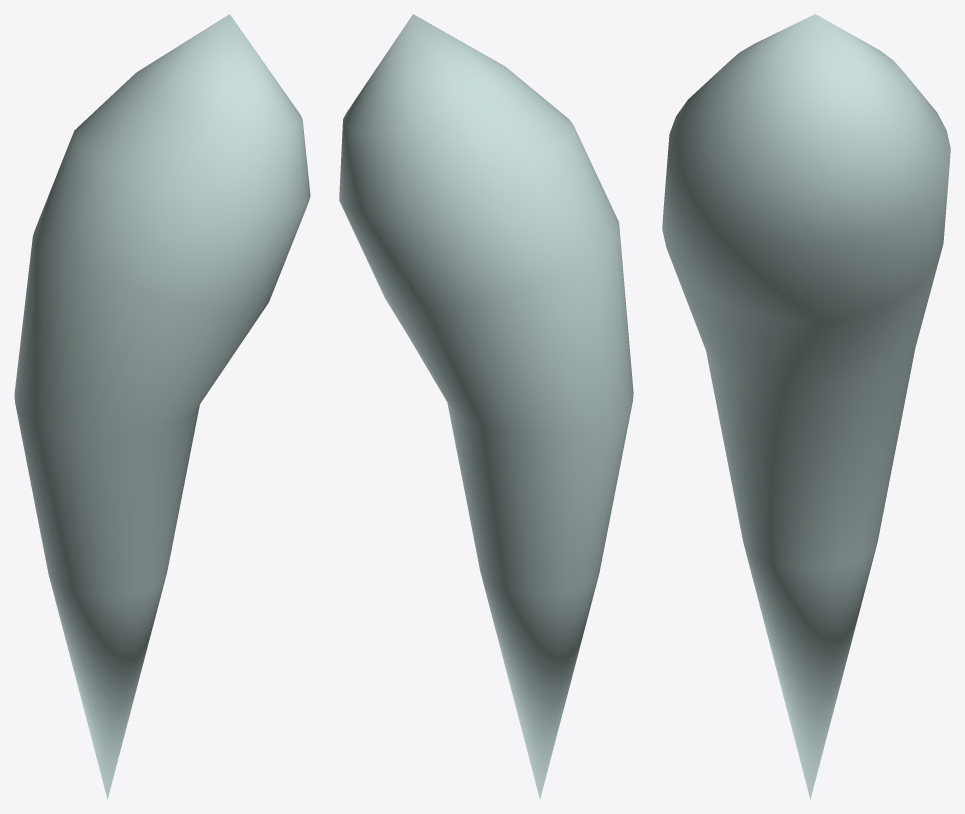
File: Pointed.fbx
3 views of the same model, side by side, from view 1: azimuth 30°, elevation 25°; view 2: azimuth 150°, elevation 25°; view 3: azimuth 270°, elevation 25° (orthographic). The views are drawn at different scales.
Visible parts, largest first — view 1: Cylinder.002; view 2: Cylinder.002; view 3: Cylinder.002.
Boxes of the visible parts, bbox=[...] form: Cylinder.002: bbox=[14, 14, 310, 799]; Cylinder.002: bbox=[339, 14, 633, 799]; Cylinder.002: bbox=[662, 14, 950, 799].
Bounding box in the file's own units: 236 × 643 × 197.
